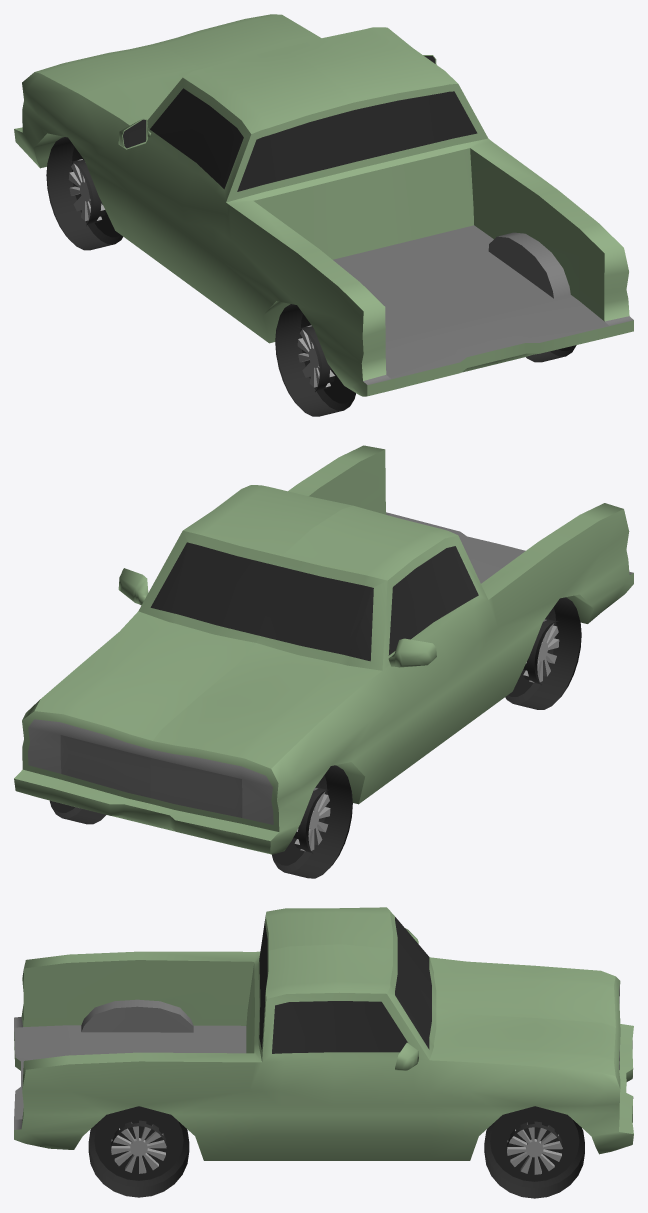
File: truck.glb
3 renders of one model, top to bottom at view 1: azimuth 30°, elevation 25°; view 2: azimuth 150°, elevation 25°; view 3: azimuth 270°, elevation 25°, orthographic. The views are drawn at different scales.
Visible parts, largest first — view 1: TruckBody, TruckTires2, TruckTires1; view 2: TruckBody, TruckTires1, TruckTires2; view 3: TruckBody, TruckTires1, TruckTires2.
Part boxes in pixels (x1,y1,x2,y2): TruckBody: (14,14,633,396); TruckTires2: (275,304,576,416); TruckTires1: (46,137,122,250); TruckBody: (14,445,633,854); TruckTires1: (49,765,352,878); TruckTires2: (505,597,581,709); TruckBody: (14,907,633,1160); TruckTires1: (484,1106,584,1198); TruckTires2: (88,1106,189,1197).
Size of the model in its own units: 4.83 by 3.44 by 9.55.
